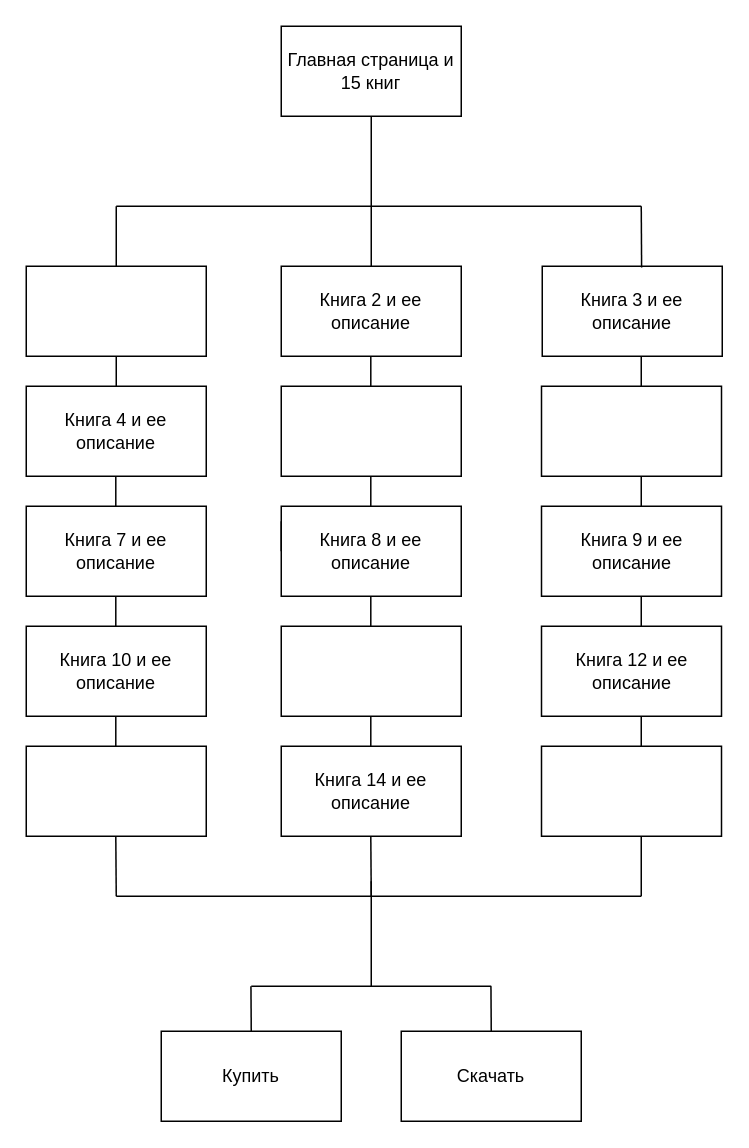
Image size: 749x1148. Some labels were removed from this diagram. The centre of each missing label's shape, as x and y in pixels:
"Книга 1 и ее описание" goes at pixel 115 310.
"Книга 11 и ее описание" goes at pixel 370 670.
"Книга 13 и ее описание" goes at pixel 115 790.
"Книга 15 и ее описание" goes at pixel 631 790.
"Книга 5 и ее описание" goes at pixel 370 430.
"Книга 6 и ее описание" goes at pixel 631 430.
